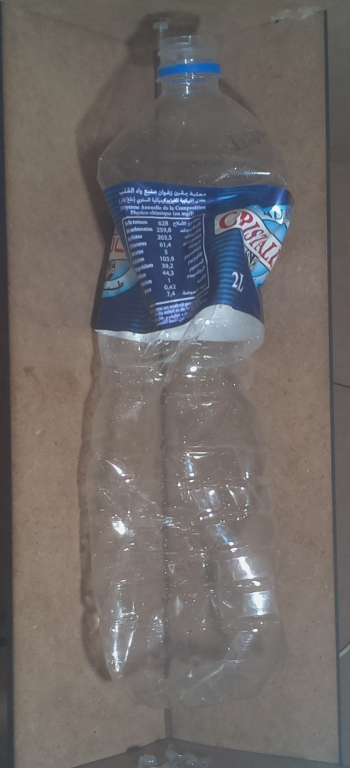Bouteille_2L: (76, 27, 305, 709)
